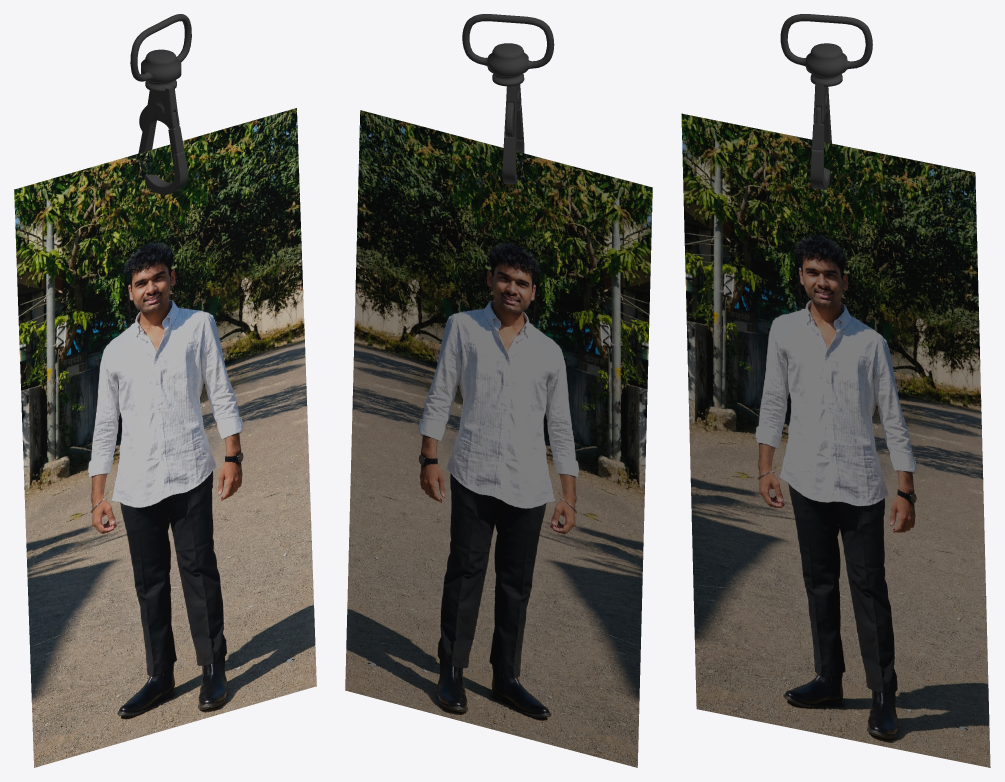
Rendered from cards.glb.
The picture shows the model from 3 angles, left to right: view 1: azimuth 30°, elevation 25°; view 2: azimuth 150°, elevation 25°; view 3: azimuth 330°, elevation 25°; orthographic projection.
Parts seen in each view (by area): view 1: siddhesh, clamp, clip; view 2: siddhesh, clip, clamp; view 3: siddhesh, clip, clamp.
Boxes of the visible parts, x1,y1,x2,y2 form: siddhesh: (14,108,316,767); clamp: (138,85,188,194); clip: (130,14,191,92); siddhesh: (345,110,652,767); clip: (462,14,554,86); clamp: (502,84,524,184); siddhesh: (681,113,990,767); clip: (780,14,872,86); clamp: (810,81,831,189).
Bounding box in the file's own units: 0.5533 × 1.24 × 0.0903.
2 materials, 1 textured.
